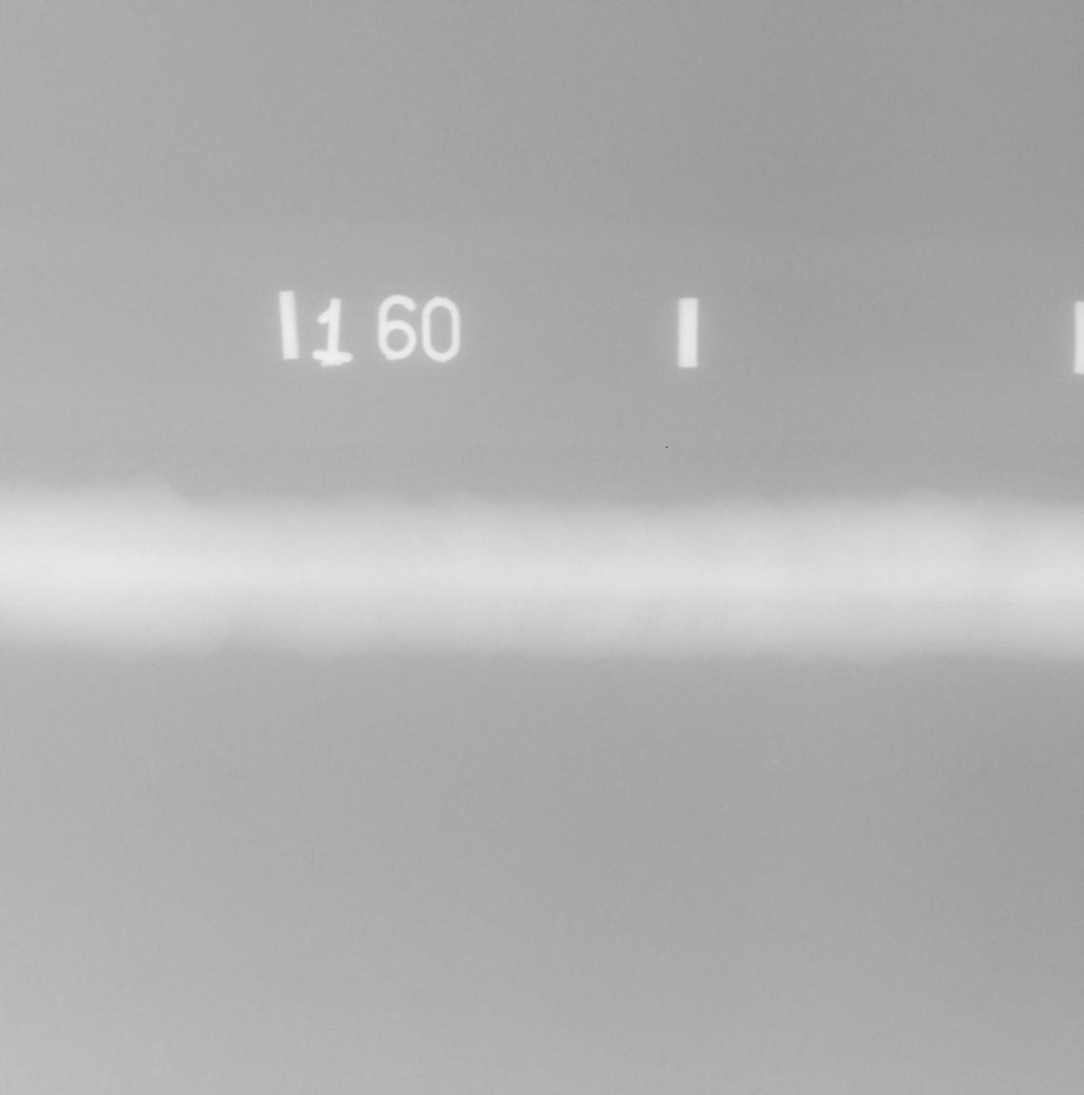Pore/Porosity: (36, 564, 52, 571)
